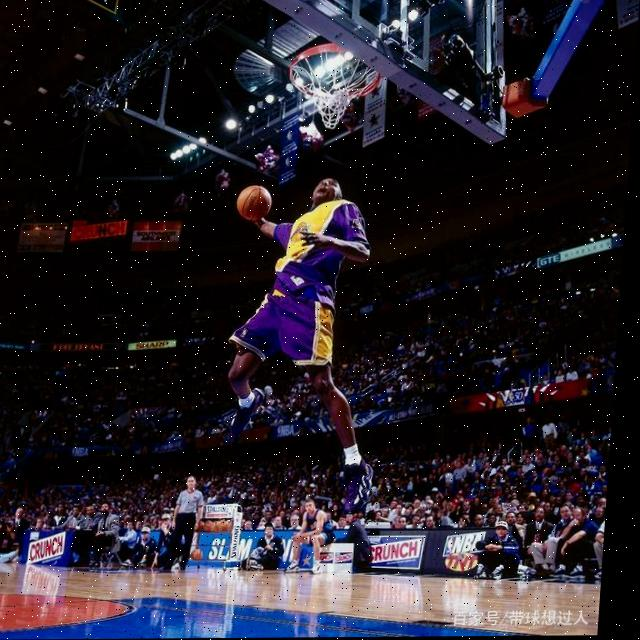basketball: (237, 185, 274, 221)
hoop: (287, 40, 386, 130)
